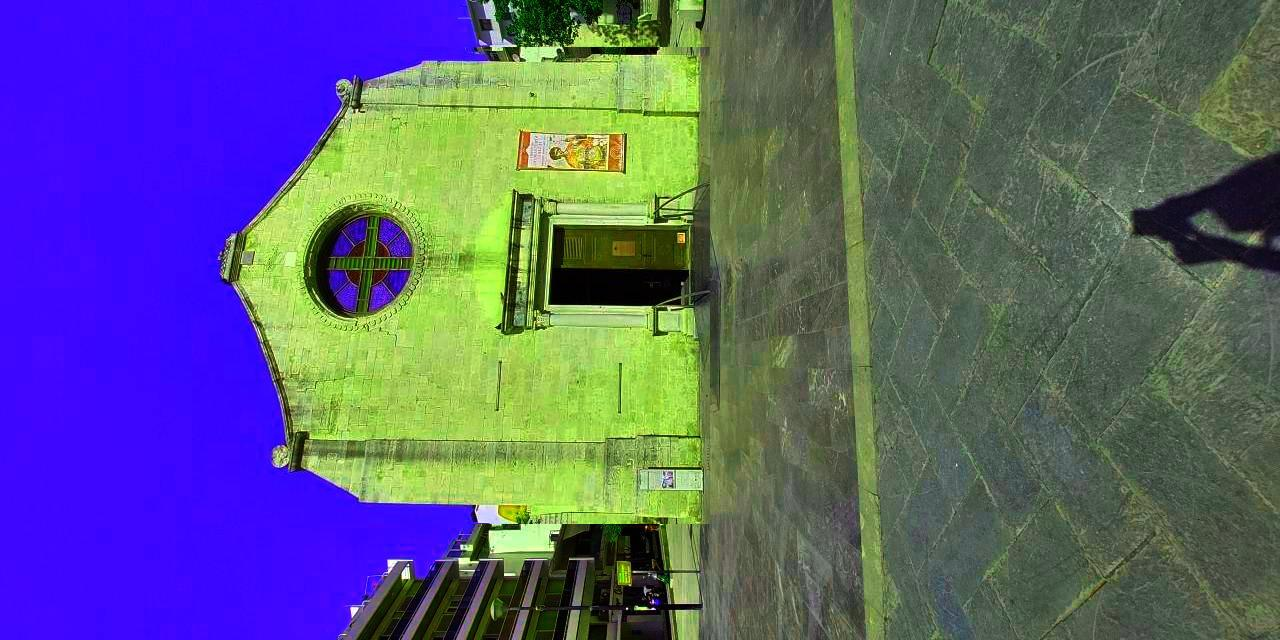Agia Aikaterini: (193, 48, 711, 525)
